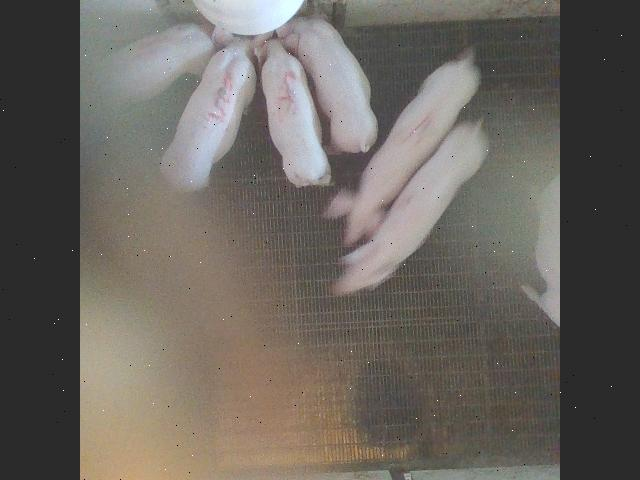pig-1: (324, 49, 480, 244)
pig-3: (162, 27, 256, 190)
pig-4: (96, 24, 216, 100)
pig-5: (253, 32, 331, 186)
